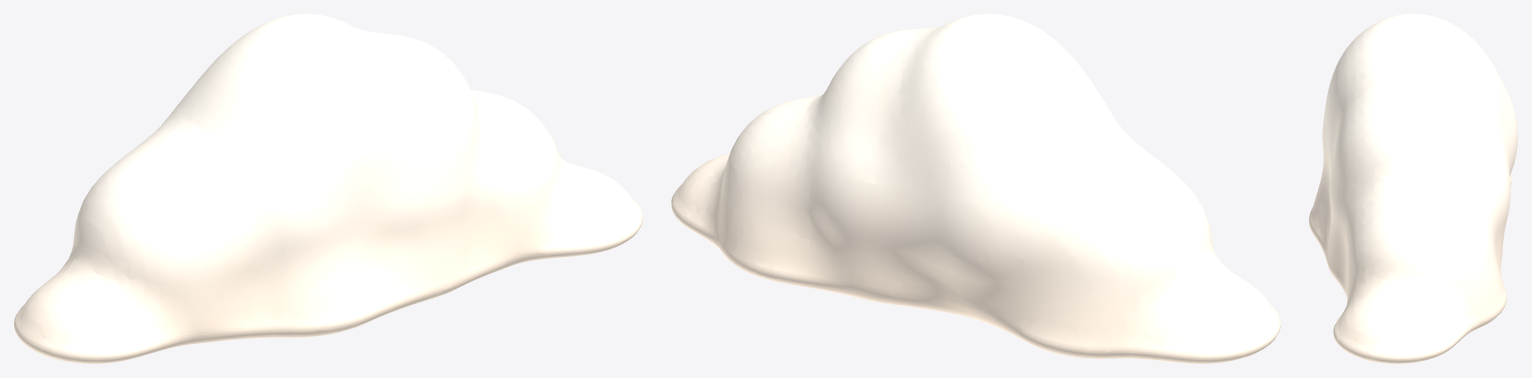
File: cloud-a.glb
The picture shows the model from 3 angles, left to right: view 1: azimuth 30°, elevation 25°; view 2: azimuth 150°, elevation 25°; view 3: azimuth 270°, elevation 25°; orthographic projection. The views are drawn at different scales.
Parts seen in each view (by area): view 1: cloud-a; view 2: cloud-a; view 3: cloud-a.
Part boxes in pixels (x1,y1,x2,y2): cloud-a: (14, 14, 642, 363); cloud-a: (671, 14, 1280, 363); cloud-a: (1309, 14, 1517, 363).
Bounding box in the file's own units: 8 × 3.55 × 2.9.
